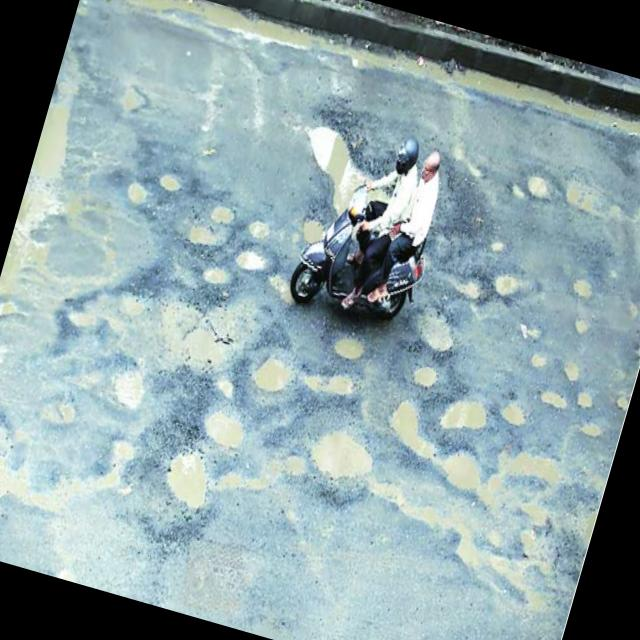Potholes: (278, 420, 576, 638), (0, 0, 135, 338), (267, 90, 428, 276), (356, 392, 580, 519), (251, 338, 366, 417), (551, 158, 640, 257), (152, 446, 222, 529), (0, 402, 40, 533), (190, 386, 254, 461), (501, 164, 568, 231), (432, 377, 504, 438), (182, 190, 245, 258), (403, 304, 458, 368), (492, 382, 538, 437), (483, 264, 524, 319), (154, 155, 194, 201), (328, 324, 369, 364), (536, 387, 580, 418), (570, 270, 598, 304), (565, 317, 596, 345), (570, 379, 596, 411), (124, 178, 150, 206)
